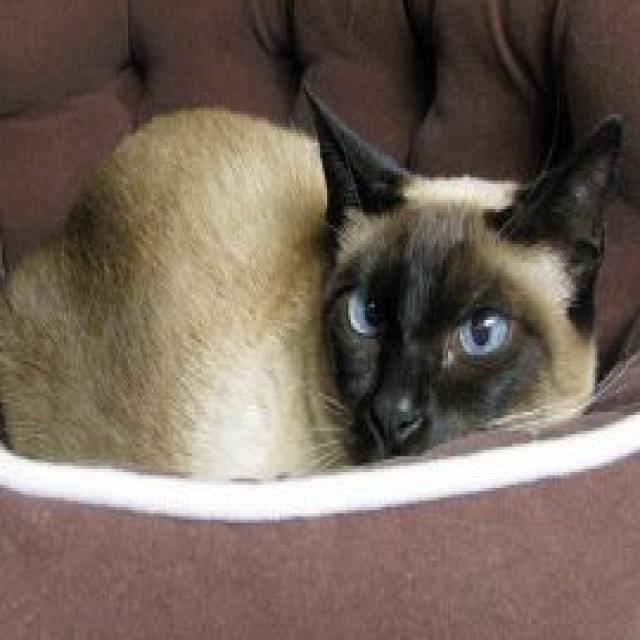Siamese: (0, 73, 626, 485)
